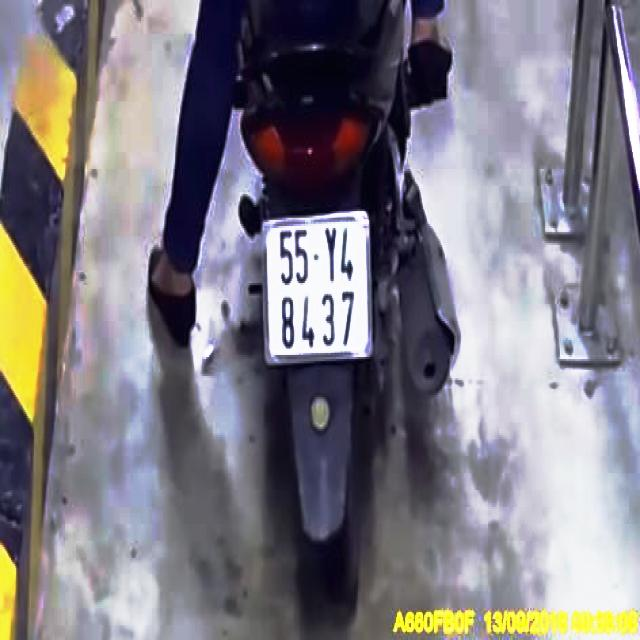license_plate: (264, 222, 373, 367)
